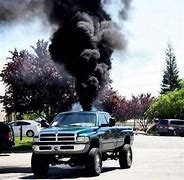smoke: (49, 1, 126, 109)
